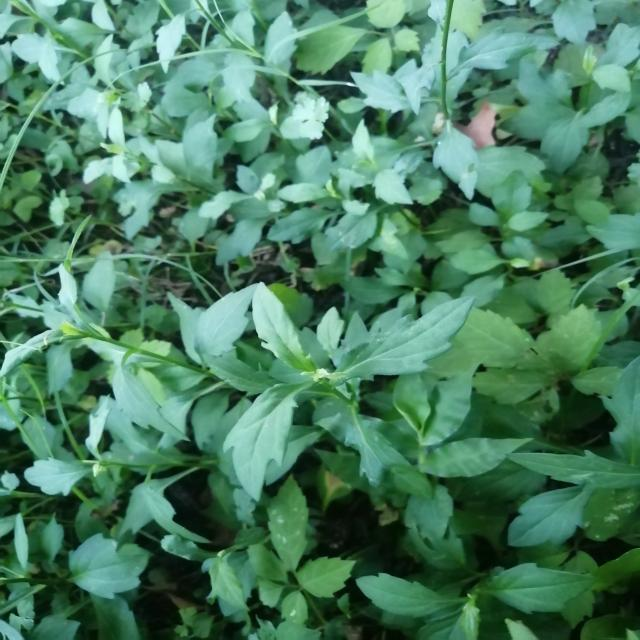Indian aster: (5, 247, 252, 499), (197, 279, 481, 486)
